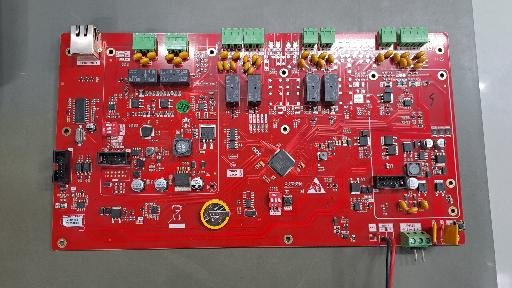var: (442, 224, 460, 245), (397, 197, 407, 214), (432, 222, 437, 243), (406, 206, 419, 214), (412, 62, 425, 70), (419, 200, 429, 210), (413, 51, 425, 58), (140, 57, 150, 65), (317, 58, 325, 68), (254, 57, 262, 67), (399, 58, 407, 68), (376, 53, 384, 63), (417, 56, 428, 63), (299, 58, 306, 69), (406, 56, 412, 68), (301, 50, 310, 58), (179, 51, 188, 59), (384, 50, 393, 58), (133, 53, 143, 60), (147, 52, 157, 59), (243, 62, 250, 72), (311, 54, 318, 64), (400, 51, 410, 58), (393, 53, 400, 63), (217, 61, 223, 72), (223, 61, 229, 72), (230, 60, 236, 71), (220, 51, 228, 59), (318, 52, 327, 59), (173, 57, 182, 64), (165, 53, 174, 60), (231, 52, 240, 59), (328, 54, 334, 64), (243, 54, 249, 64), (251, 53, 257, 63), (247, 66, 254, 74)
